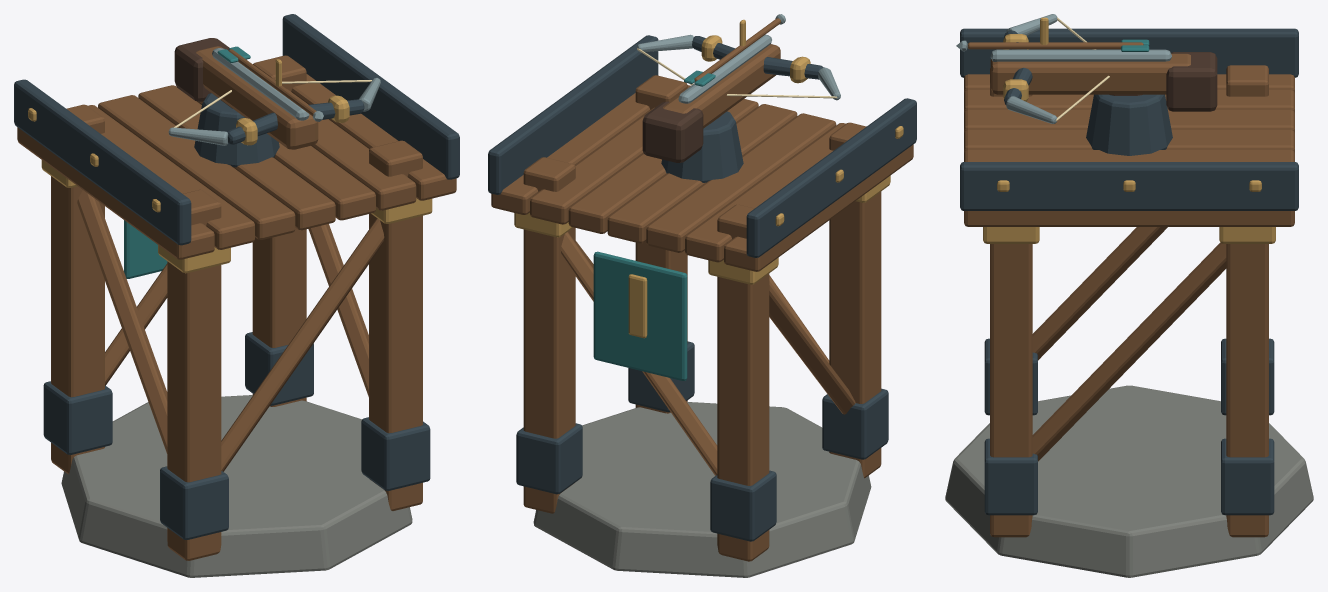
File: watchtower7.glb
3 views of the same model, side by side, from view 1: azimuth 30°, elevation 25°; view 2: azimuth 150°, elevation 25°; view 3: azimuth 270°, elevation 25° (orthographic). The views are drawn at different scales.
Parts seen in each view (by area): view 1: TimberPier, OctagonalPlinth.002, IronFoot, WalnutStock.003, RivetedCapital, Rail.003, ShoulderButt.003, HangingStandard, SteelBowInner.003, LimbBinding.003, LoadedBolt.002; view 2: TimberPier, OctagonalPlinth.002, IronFoot, HangingStandard, RivetedCapital, ShoulderButt.003, WalnutStock.003, Rail.003, SteelBowInner.003, LimbBinding.003, LoadedBolt.002; view 3: TimberPier, OctagonalPlinth.002, IronFoot, WalnutStock.003, Rail.003, ShoulderButt.003, RivetedCapital, LoadedBolt.002, LimbBinding.003.
Boxes of the visible parts, x1,y1,x2,y2 form: TimberPier: (17,55,456,560); OctagonalPlinth.002: (61,395,412,577); IronFoot: (14,14,459,539); WalnutStock.003: (196,46,318,149); RivetedCapital: (28,108,432,273); Rail.003: (168,48,380,145); ShoulderButt.003: (174,38,232,108); HangingStandard: (124,220,167,278); SteelBowInner.003: (227,99,364,144); LimbBinding.003: (236,59,349,145); LoadedBolt.002: (228,49,316,116); TimberPier: (491,75,913,561); OctagonalPlinth.002: (533,402,871,577); IronFoot: (488,35,916,541); HangingStandard: (593,251,687,380); RivetedCapital: (514,126,903,338); ShoulderButt.003: (642,101,720,162); WalnutStock.003: (663,44,780,128); Rail.003: (637,34,840,103); SteelBowInner.003: (692,36,823,79); LimbBinding.003: (701,19,810,83); LoadedBolt.002: (694,18,780,82); TimberPier: (964,65,1294,537); OctagonalPlinth.002: (945,385,1313,577); IronFoot: (960,28,1298,515); WalnutStock.003: (990,53,1190,94); Rail.003: (990,14,1171,123); ShoulderButt.003: (1109,52,1217,111); RivetedCapital: (983,180,1275,243); LoadedBolt.002: (967,42,1143,49); LimbBinding.003: (1003,17,1048,101).
Bounding box in the file's own units: 2.34 × 3.39 × 2.34.
